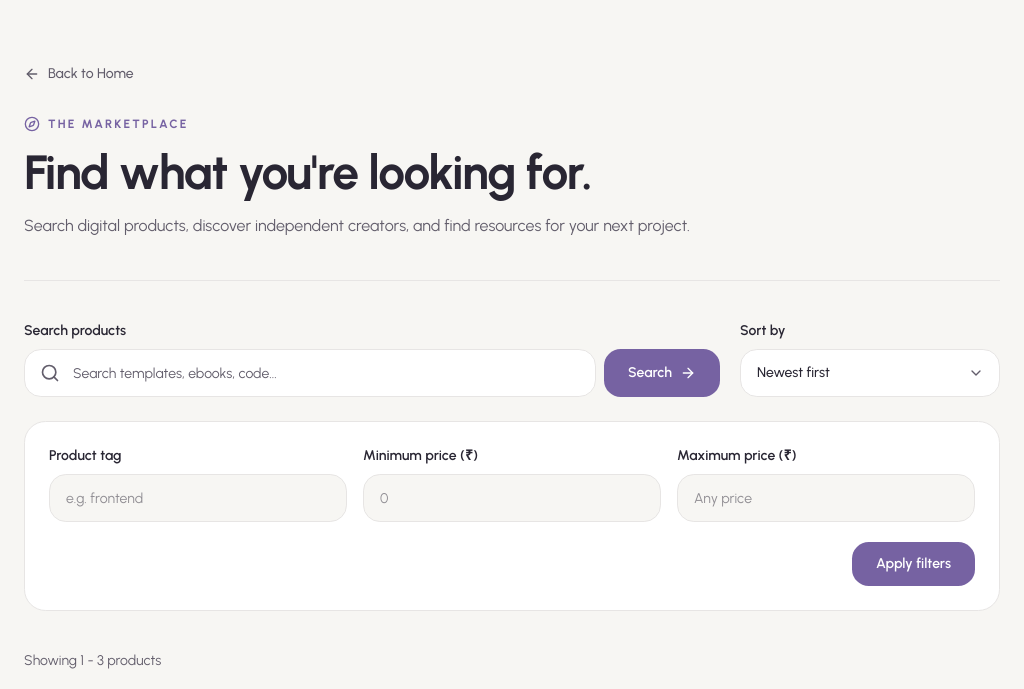
Test: Sellora marketplace tag and price filters › rejects an invalid price range without requesting products
In the number field labelled "Minimum price (₹)": (512, 498) [363,474,661,522], type "800"
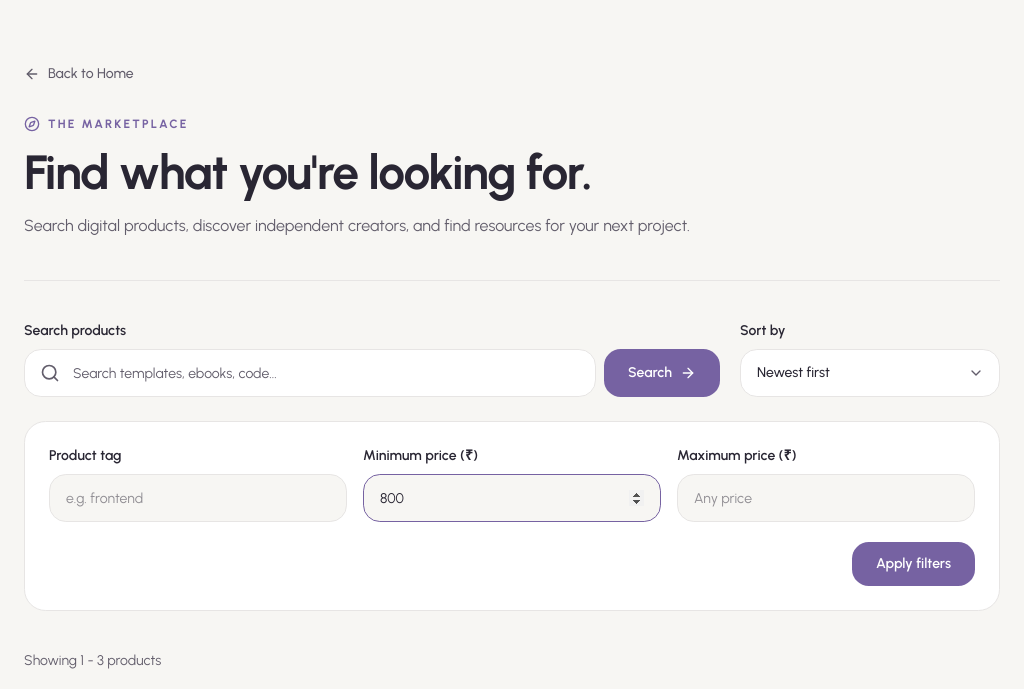
In the number field labelled "Maximum price (₹)": (826, 498) [677,474,975,522], type "200"
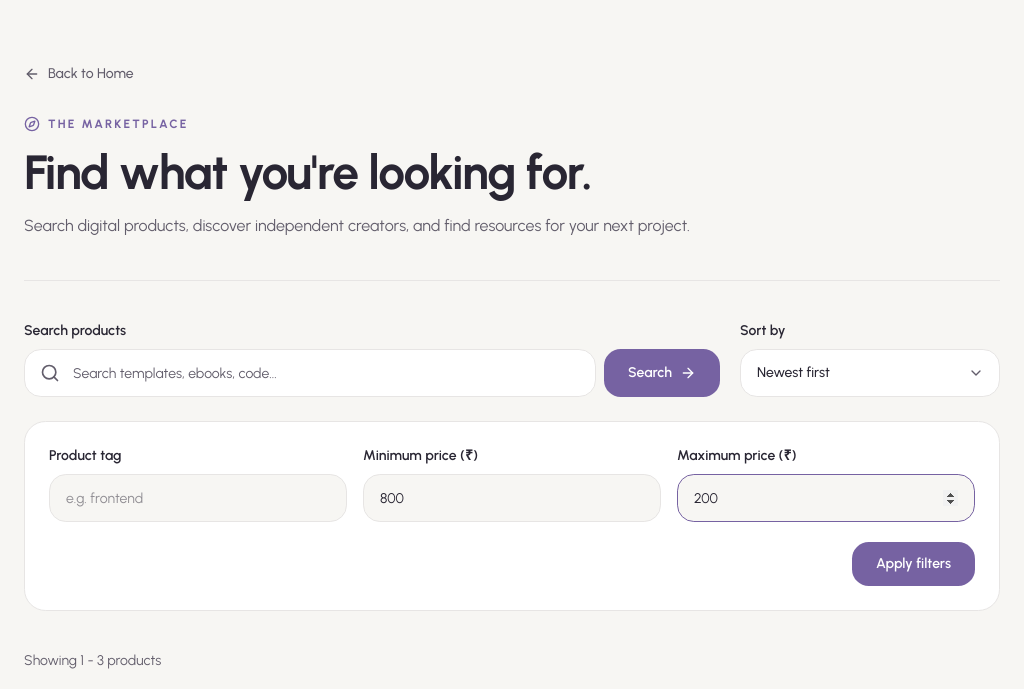
Click the button "Apply filters": (914, 564) [852,542,975,586]
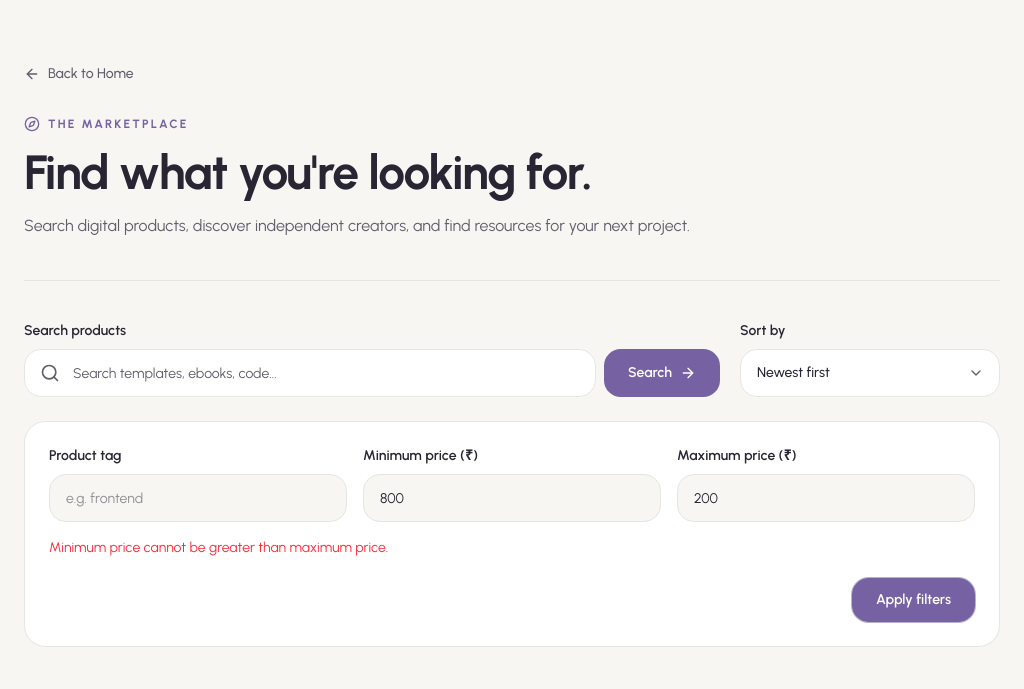
Now the message reads "Minimum price cannot be greater than maximum price.", box [49,539,388,556]
